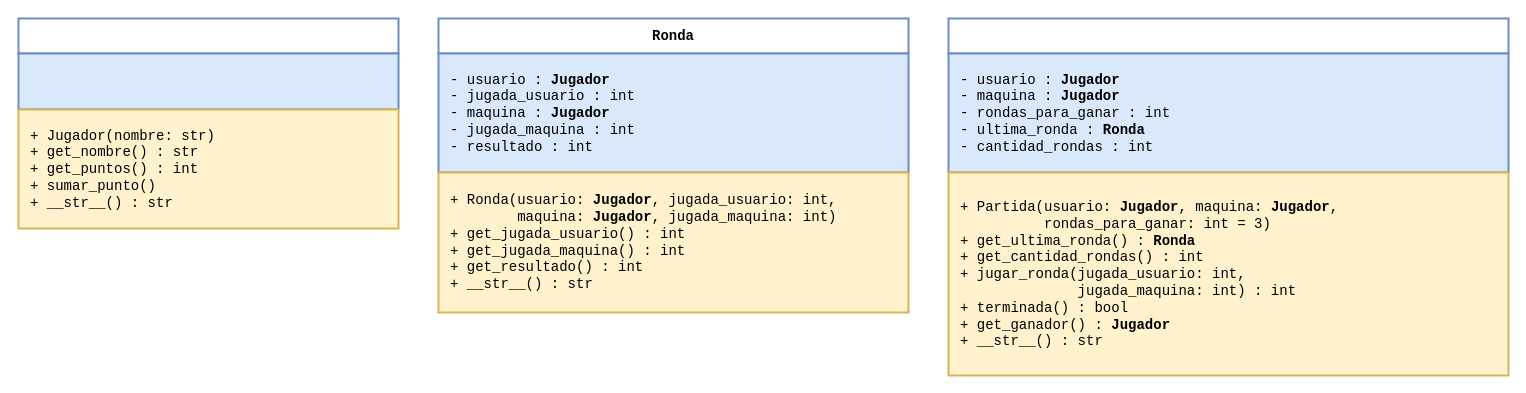
Some shapes in this 1526 by 393 pixel diagram are drawn without their labels. Each missing label, with the centre of its shape:
"- nombre : str - puntos : int" belongs at pixel 208 81.
"Jugador" belongs at pixel 208 35.
"Partida" belongs at pixel 1228 35.
